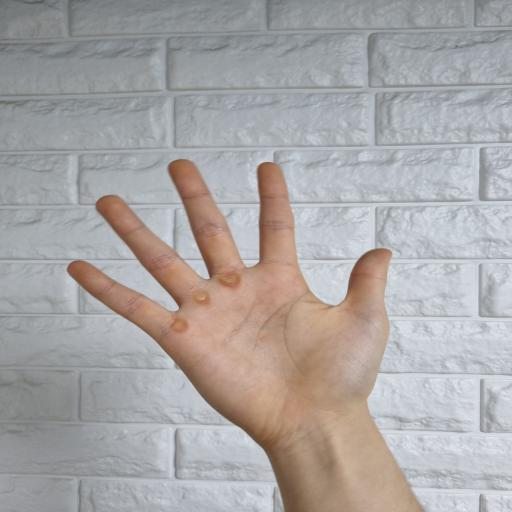Paper: (66, 156, 392, 454)
